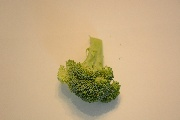broccoli: (57, 35, 121, 105)
